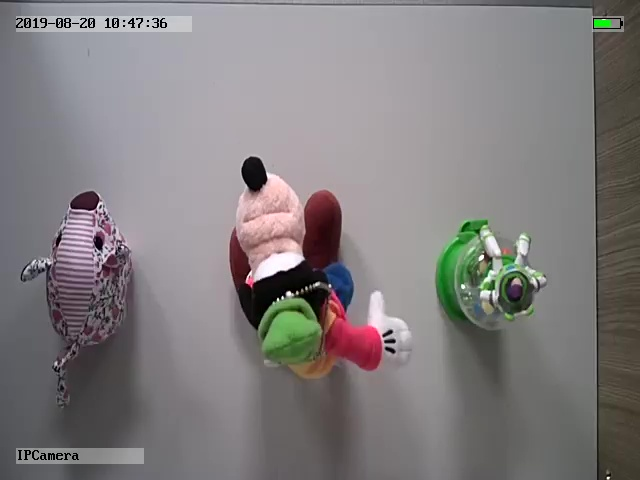buzz: (432, 217, 551, 335)
goofy: (224, 153, 417, 383)
pig: (19, 189, 137, 411)
